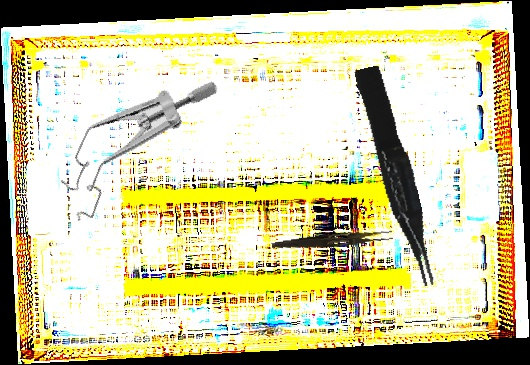Dressing Forceps: (271, 226, 393, 255)
Speculum: (47, 40, 221, 253)
Tissue Forceps: (354, 62, 439, 292)
